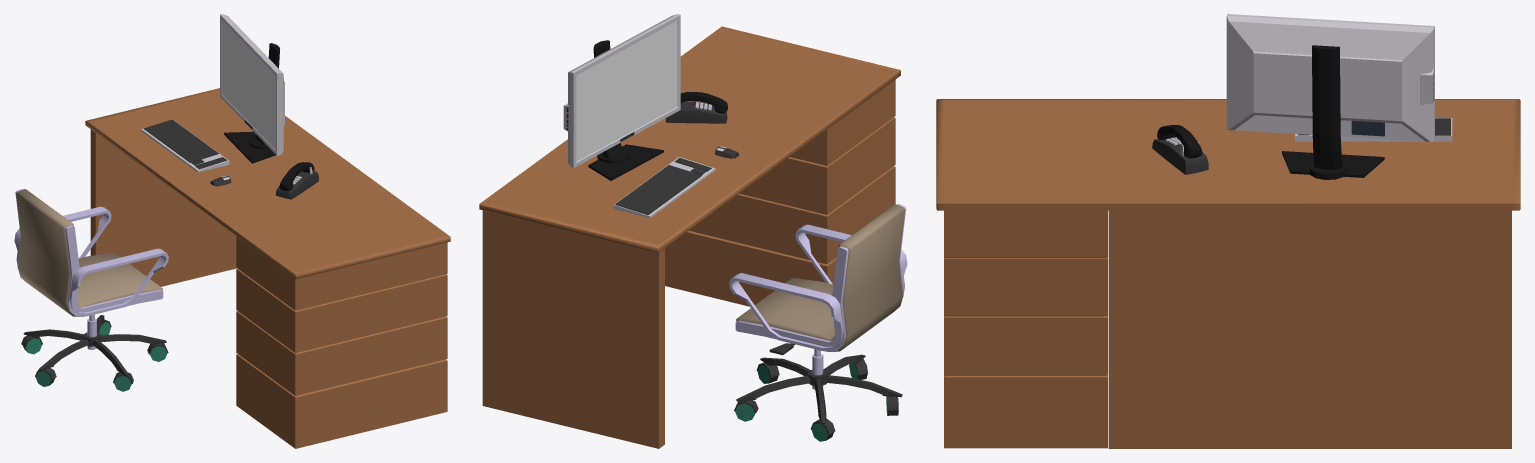
The model's file is Table2.fbx.
The picture shows the model from 3 angles, left to right: view 1: azimuth 30°, elevation 25°; view 2: azimuth 150°, elevation 25°; view 3: azimuth 270°, elevation 25°; orthographic projection. The views are drawn at different scales.
Visible parts, largest first — view 1: Desk.010; view 2: Desk.010; view 3: Desk.010.
Boxes of the visible parts, box(x1,y1,x2,y2) form: Desk.010: box(14, 14, 450, 448); Desk.010: box(479, 14, 907, 448); Desk.010: box(936, 14, 1520, 448).
Bounding box in the file's own units: 121 × 114 × 155.
